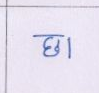aa_matra: (67, 39, 71, 58)
